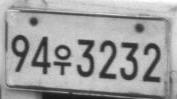2: (142, 41, 161, 82), (99, 38, 116, 78)
3: (75, 38, 95, 77), (120, 41, 138, 81)
4: (31, 36, 51, 75)
9: (10, 33, 30, 72)
우: (52, 44, 72, 75)
